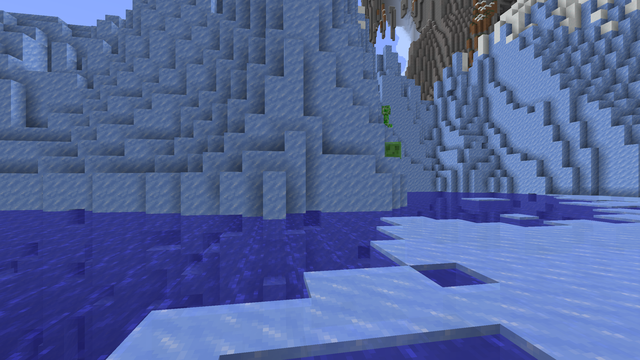creepers: (380, 104, 392, 125)
slimes: (385, 141, 404, 158)
